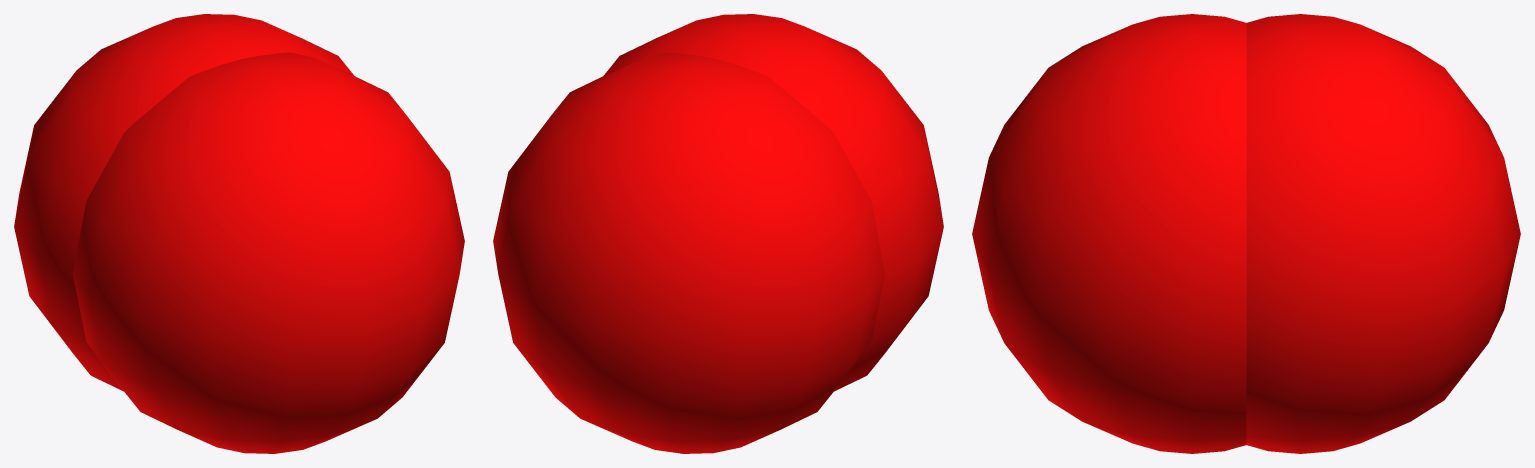
3 renders of one model, left to right at view 1: azimuth 30°, elevation 25°; view 2: azimuth 150°, elevation 25°; view 3: azimuth 270°, elevation 25°, orthographic. The views are drawn at different scales.
Visible parts, largest first — view 1: O2.001; view 2: O2.001; view 3: O2.001.
Part boxes in pixels (box(x1,y1,x2,y2)): O2.001: box(14, 14, 464, 453); O2.001: box(493, 14, 943, 453); O2.001: box(972, 14, 1520, 453).
Size of the model in its own units: 200 by 200 by 249.
